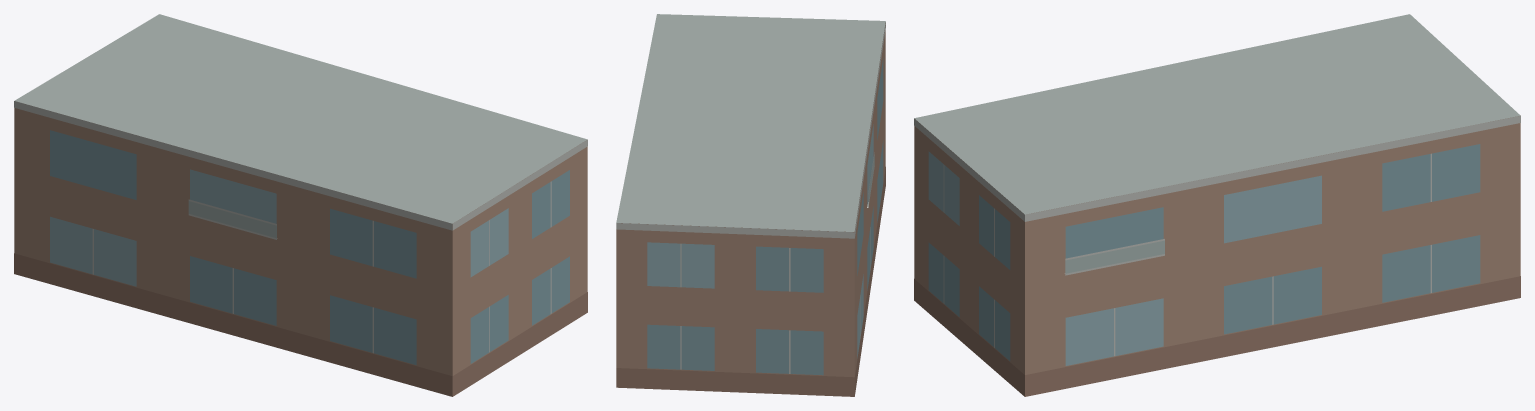
Rendered from survey-upis-32701587.glb.
3 renders of one model, left to right at view 1: azimuth 30°, elevation 25°; view 2: azimuth 150°, elevation 25°; view 3: azimuth 270°, elevation 25°, orthographic. The views are drawn at different scales.
Visible parts, largest first — view 1: survey-upis-32701587.tmp; view 2: survey-upis-32701587.tmp; view 3: survey-upis-32701587.tmp.
Part boxes in pixels (x1,y1,x2,y2): survey-upis-32701587.tmp: (14,14,587,396); survey-upis-32701587.tmp: (616,14,885,396); survey-upis-32701587.tmp: (914,14,1520,396).
Bounding box in the file's own units: 14.41 × 6.1 × 18.42.
